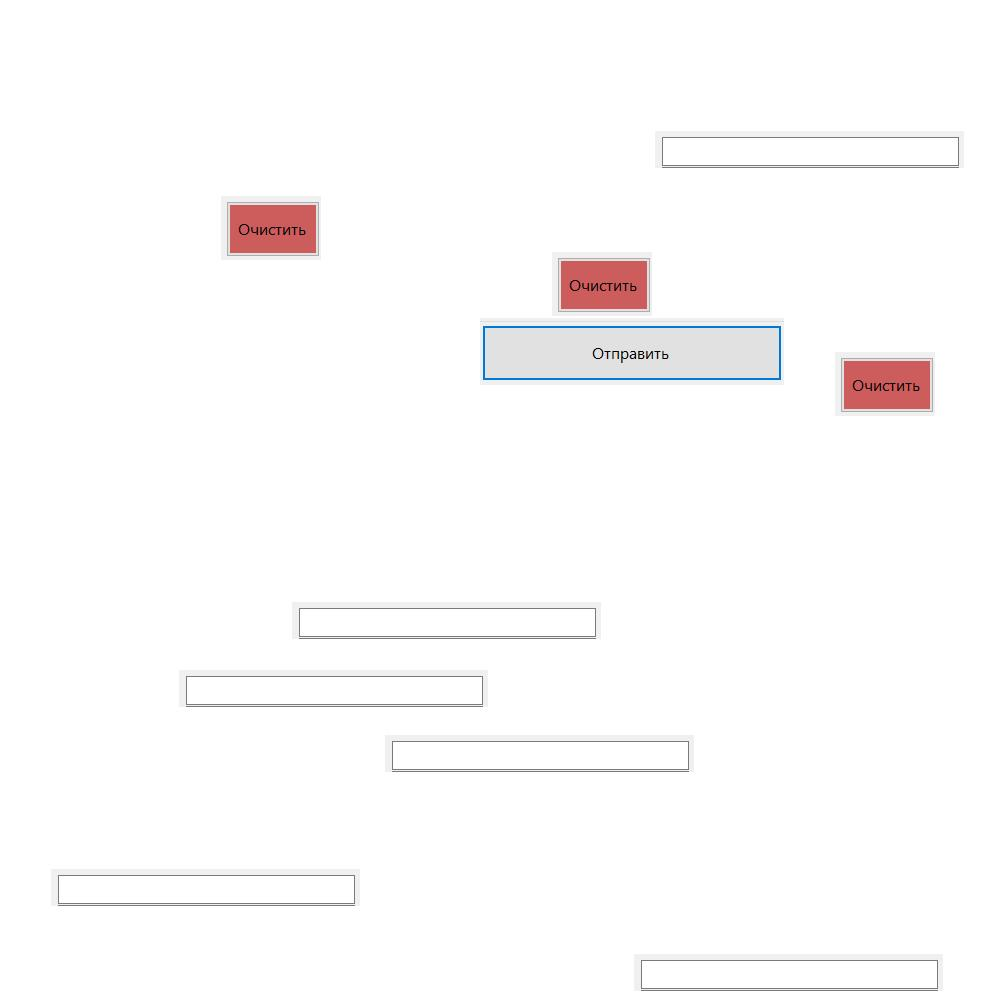Button: (480, 318, 784, 385), (835, 352, 935, 416), (221, 196, 321, 260), (552, 252, 652, 316)
EditText-: (51, 869, 360, 906), (292, 602, 601, 639), (655, 131, 964, 168), (179, 670, 488, 707), (634, 954, 943, 991), (385, 735, 694, 772)
